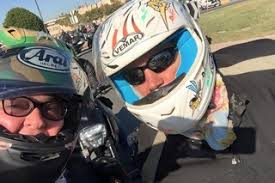helmet: (89, 1, 219, 138), (1, 32, 90, 155)
